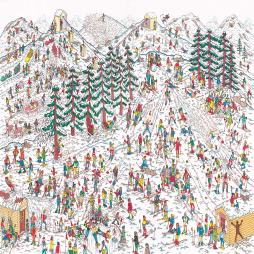odlaw: (172, 159, 175, 164)
wally: (32, 180, 41, 197)
wenda: (128, 102, 132, 113)
wizard_whitebeard: (231, 187, 238, 197)
